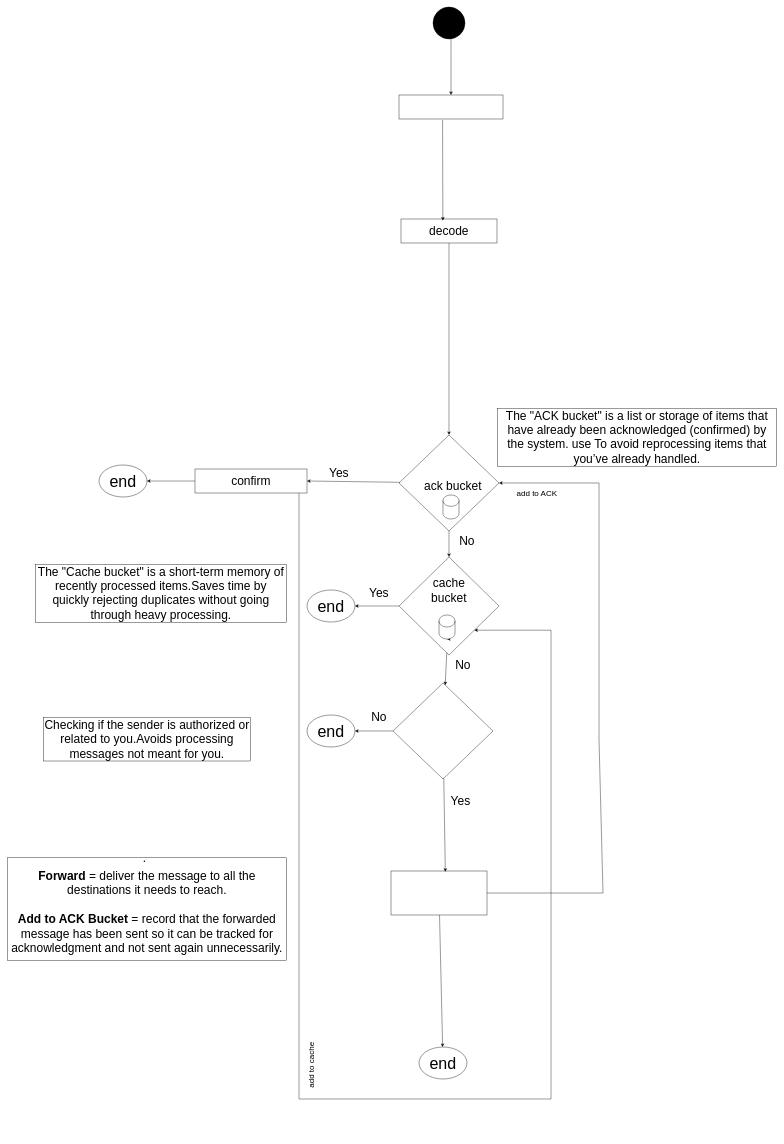
This 784x1144 diagram has some shape labels left out. The centre of each missing label's shape, as x and y in pixels:
forward: the point at 439,893
get: the point at 451,107
relation chk: the point at 443,731
